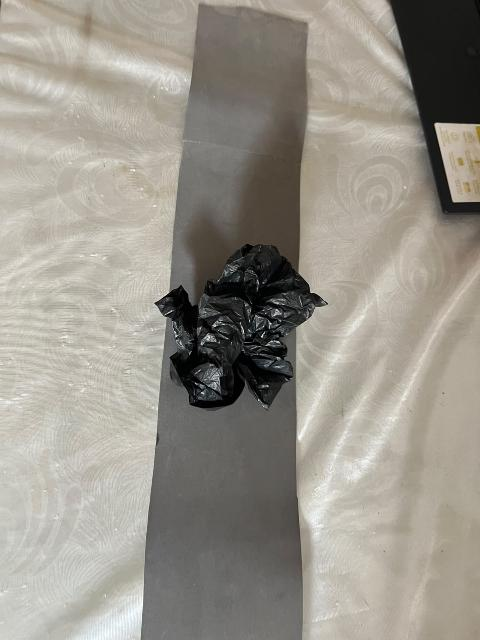LDPE: (148, 211, 339, 466)
